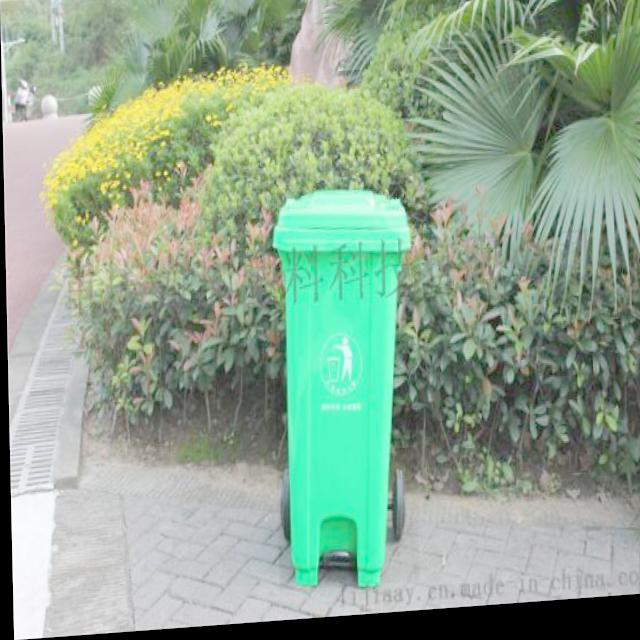garbage_bin: (270, 189, 417, 595)
